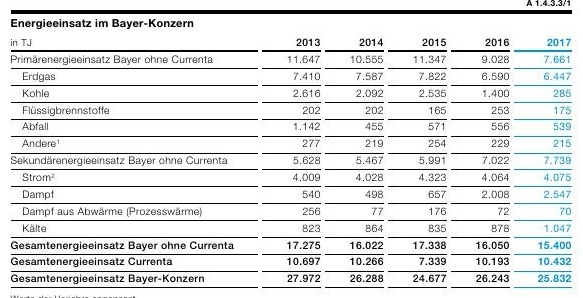table: (0, 0, 583, 298)
